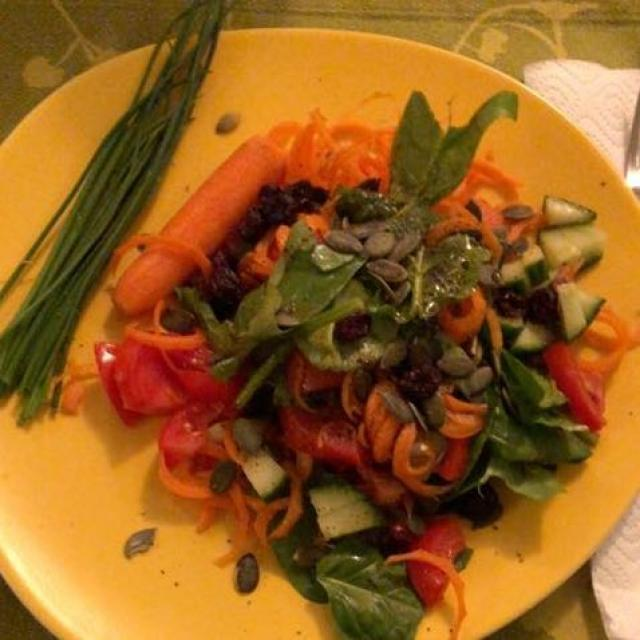carrot: (115, 112, 608, 573)
chives: (2, 21, 256, 443)
cucumber: (242, 195, 618, 555)
pumpkin-seeds: (325, 202, 542, 440)
salad: (219, 98, 576, 638)
